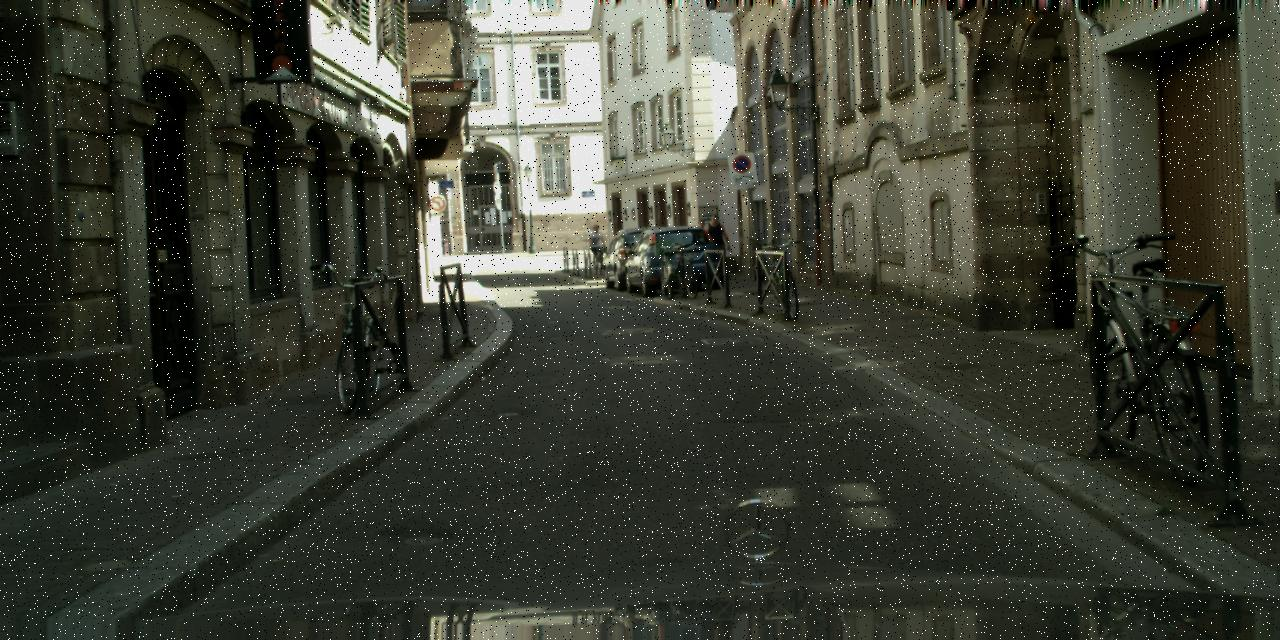ped: (703, 214, 729, 278), (689, 218, 712, 276), (589, 224, 606, 268)
